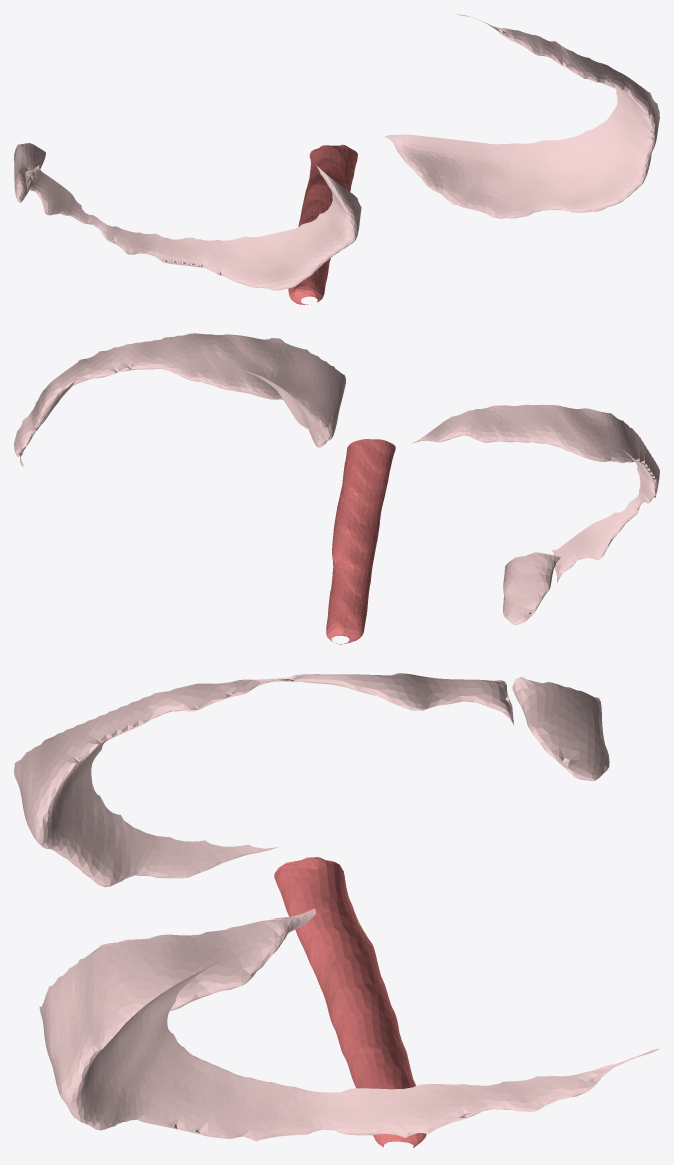
The model's file is exemplo-torax.glb.
3 renders of one model, top to bottom at view 1: azimuth 30°, elevation 25°; view 2: azimuth 150°, elevation 25°; view 3: azimuth 270°, elevation 25°, orthographic. The views are drawn at different scales.
Parts seen in each view (by area): view 1: lung_lower_lobe_right, lung_lower_lobe_left, aorta, lung_upper_lobe_left; view 2: lung_lower_lobe_right, lung_lower_lobe_left, aorta, lung_upper_lobe_left; view 3: lung_lower_lobe_right, lung_lower_lobe_left, aorta, lung_upper_lobe_left.
Boxes of the visible parts, x1=… form: lung_lower_lobe_right: x1=385, y1=14, x2=659, y2=218; lung_lower_lobe_left: x1=25, y1=165, x2=361, y2=290; aorta: x1=288, y1=144, x2=357, y2=304; lung_upper_lobe_left: x1=14, y1=143, x2=45, y2=202; lung_lower_lobe_right: x1=14, y1=333, x2=345, y2=466; lung_lower_lobe_left: x1=411, y1=404, x2=659, y2=582; aorta: x1=326, y1=439, x2=395, y2=644; lung_upper_lobe_left: x1=503, y1=552, x2=560, y2=624; lung_lower_lobe_right: x1=39, y1=909, x2=659, y2=1141; lung_lower_lobe_left: x1=14, y1=673, x2=513, y2=887; aorta: x1=274, y1=857, x2=426, y2=1147; lung_upper_lobe_left: x1=512, y1=676, x2=609, y2=780.
Size of the model in its own units: 0.2879 by 0.0848 by 0.1788.
